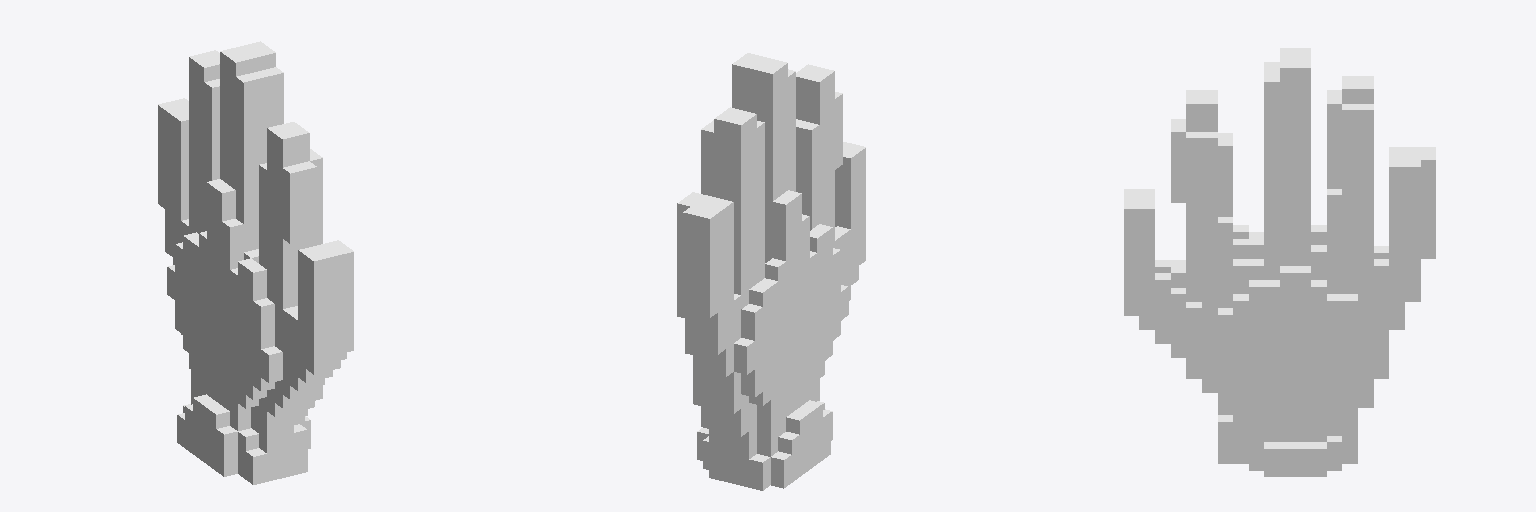
The model's file is Hand.obj.
3 views of the same model, side by side, from view 1: azimuth 30°, elevation 25°; view 2: azimuth 150°, elevation 25°; view 3: azimuth 270°, elevation 25° (orthographic).
Bounding box in the file's own units: 7 × 28 × 20.